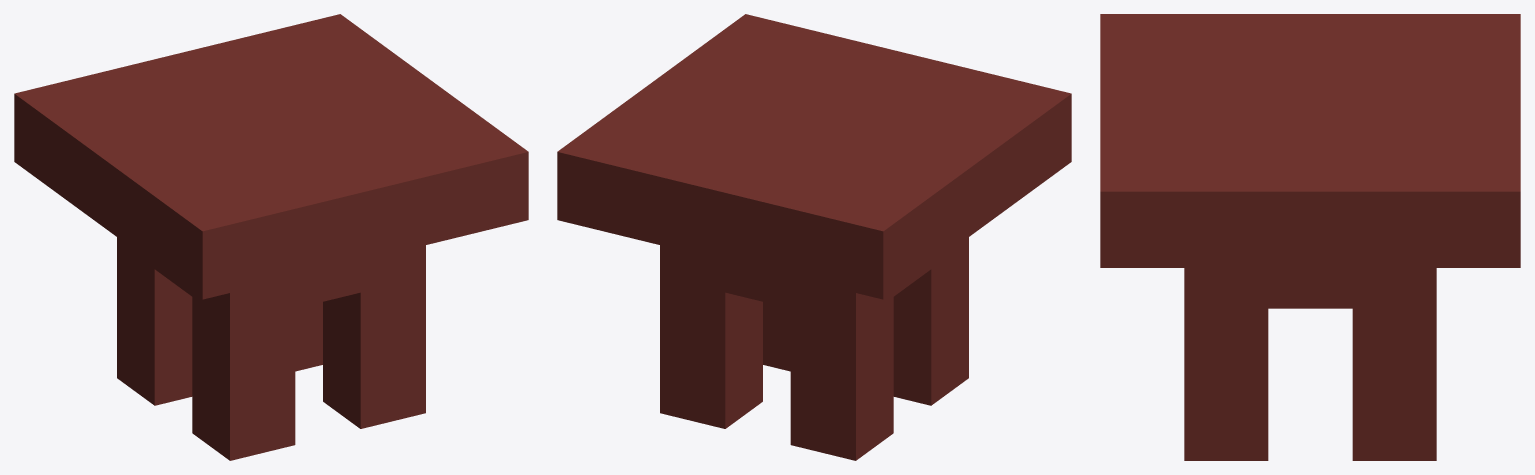
The model's file is small_bench_b.obj.
The picture shows the model from 3 angles, left to right: view 1: azimuth 30°, elevation 25°; view 2: azimuth 150°, elevation 25°; view 3: azimuth 270°, elevation 25°; orthographic projection. The views are drawn at different scales.
Bounding box in the file's own units: 0.5 × 0.4 × 0.5.
1 material, 1 textured.
